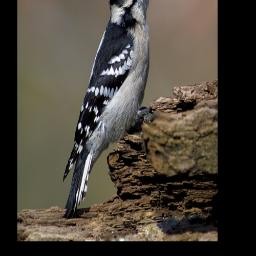Woodpecker: (62, 0, 166, 222)
